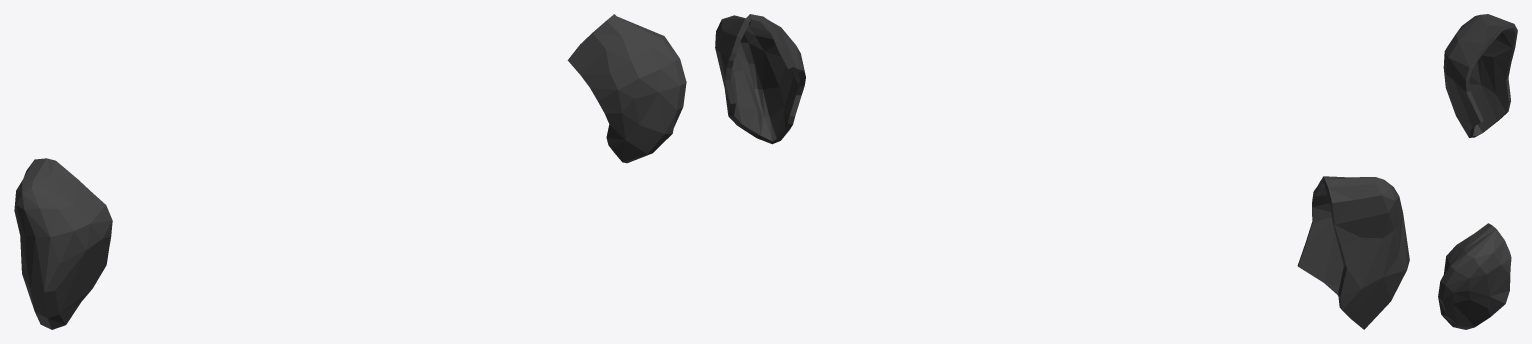
Rendered from l1_mamillary_process.glb.
3 views of the same model, side by side, from view 1: azimuth 30°, elevation 25°; view 2: azimuth 150°, elevation 25°; view 3: azimuth 270°, elevation 25° (orthographic). The views are drawn at different scales.
Visible parts, largest first — view 1: l1_mamillary_process; view 2: l1_mamillary_process; view 3: l1_mamillary_process.
Part boxes in pixels (x1,y1,x2,y2): l1_mamillary_process: [14, 14, 686, 329]; l1_mamillary_process: [715, 14, 1409, 329]; l1_mamillary_process: [1438, 14, 1517, 329].
Bounding box in the file's own units: 30.75 × 7.55 × 4.18.
1 material, 1 textured.
